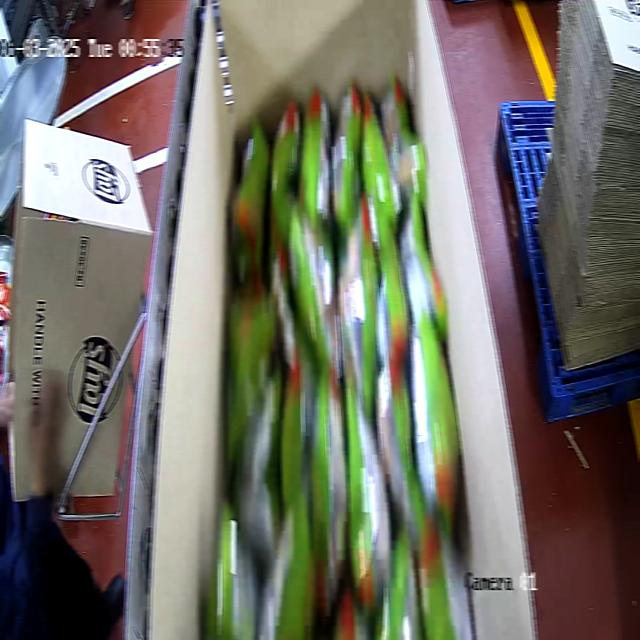YOGURT_HERB: (215, 73, 470, 637)
